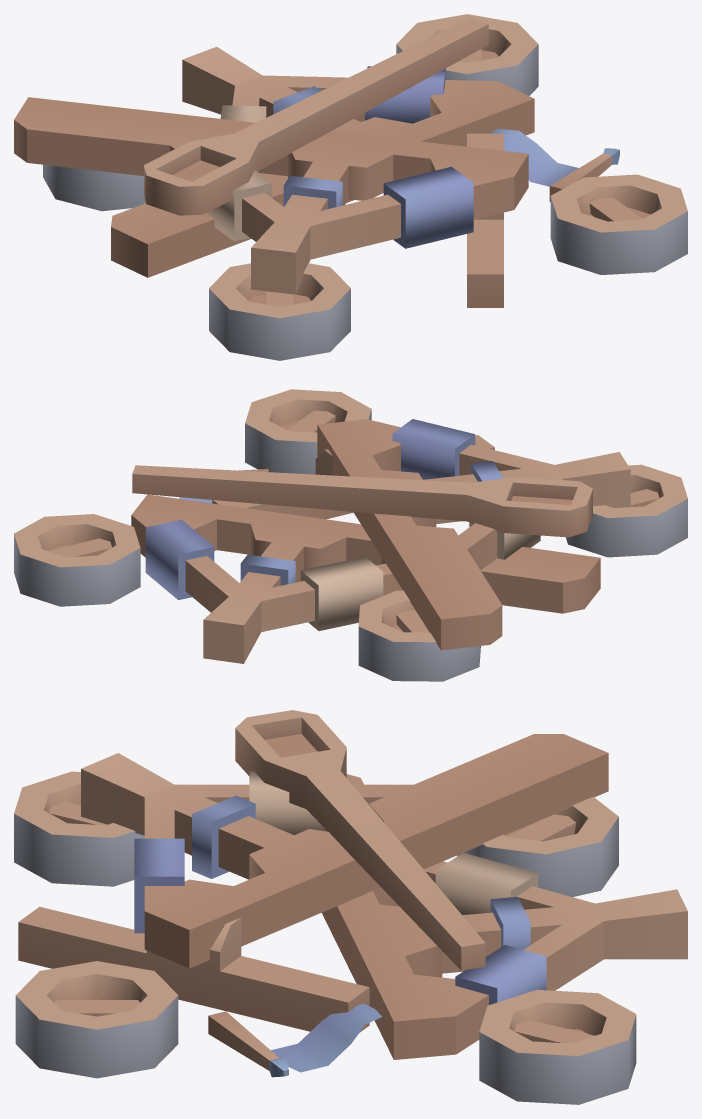
Rendered from siege-catapult-demolished.glb.
3 renders of one model, top to bottom at view 1: azimuth 30°, elevation 25°; view 2: azimuth 150°, elevation 25°; view 3: azimuth 270°, elevation 25°, orthographic. The views are drawn at different scales.
Visible parts, largest first — view 1: siege-catapult-demolished; view 2: siege-catapult-demolished; view 3: siege-catapult-demolished.
Part boxes in pixels (left/top/right/bottom): siege-catapult-demolished: left=14, top=14, right=687, bottom=360; siege-catapult-demolished: left=14, top=389, right=687, bottom=681; siege-catapult-demolished: left=14, top=710, right=687, bottom=1104.
Bounding box in the file's own units: 1.68 × 0.3213 × 1.67.
